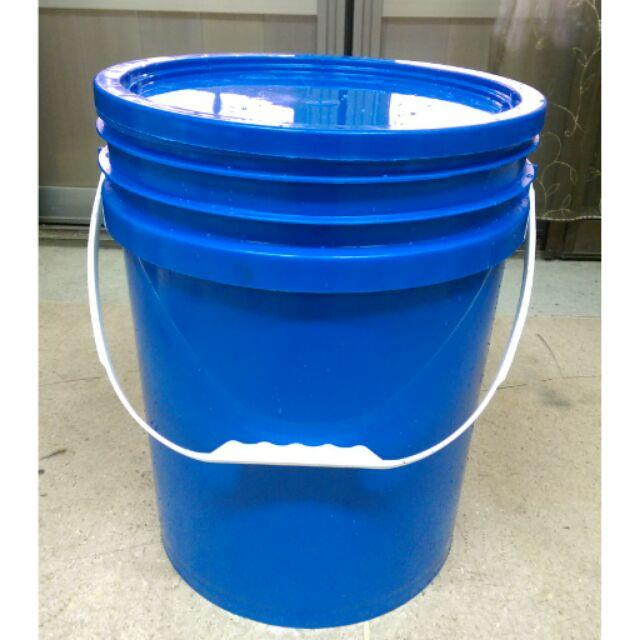plastic: (78, 48, 546, 628)
